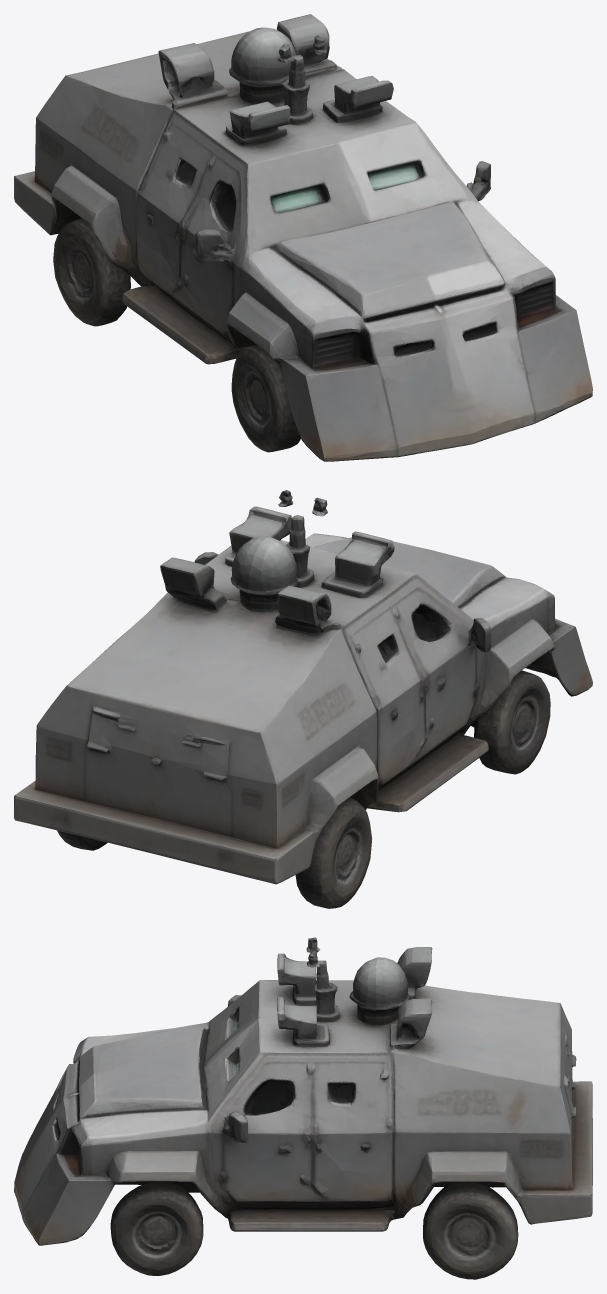
3 renders of one model, top to bottom at view 1: azimuth 30°, elevation 25°; view 2: azimuth 150°, elevation 25°; view 3: azimuth 270°, elevation 25°, orthographic. The views are drawn at different scales.
Parts seen in each view (by area): view 1: geometry_0; view 2: geometry_0; view 3: geometry_0.
Boxes of the visible parts, x1=… form: geometry_0: x1=14, y1=14, x2=592, y2=461; geometry_0: x1=14, y1=490, x2=592, y2=908; geometry_0: x1=14, y1=937, x2=592, y2=1279.
Size of the model in its own units: 0.5181 by 0.534 by 0.9984.
Materials: 1 (1 with a texture image).
